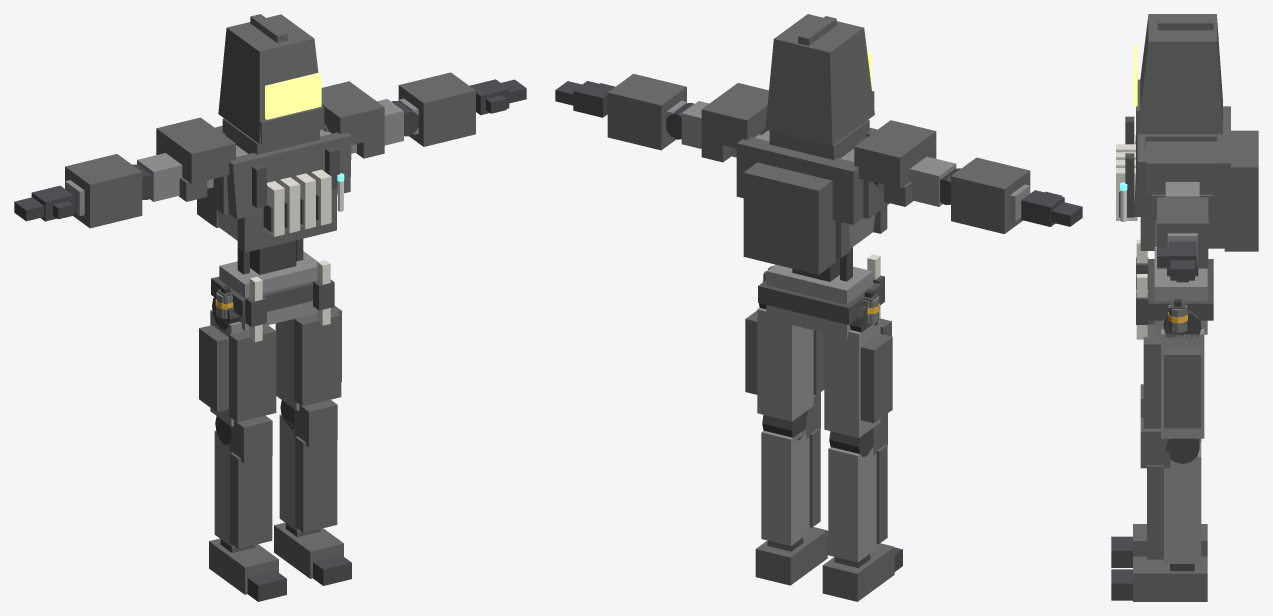
The model's file is char_F1_drop_trooper.glb.
The picture shows the model from 3 angles, left to right: view 1: azimuth 30°, elevation 25°; view 2: azimuth 150°, elevation 25°; view 3: azimuth 270°, elevation 25°; orthographic projection. The views are drawn at different scales.
Parts seen in each view (by area): view 1: Head_mesh, UpperChest_mesh, RightLowerLeg_mesh, LeftLowerLeg_mesh, RightUpperLeg_mesh, LeftUpperLeg_mesh, RightUpperArm_mesh, Hips_mesh, RightLowerArm_mesh, LeftLowerArm_mesh, LeftUpperArm_mesh, Chest_mesh (+11 smaller); view 2: UpperChest_mesh, Head_mesh, LeftLowerLeg_mesh, RightLowerLeg_mesh, RightUpperLeg_mesh, LeftUpperLeg_mesh, Hips_mesh, RightUpperArm_mesh, RightLowerArm_mesh, LeftLowerArm_mesh, LeftUpperArm_mesh, RightFoot_mesh (+5 smaller); view 3: Head_mesh, UpperChest_mesh, LeftLowerLeg_mesh, LeftUpperLeg_mesh, LeftUpperArm_mesh, Hips_mesh, LeftFoot_mesh, LeftLowerArm_mesh, LeftHand_mesh, Chest_mesh, LeftToes_mesh, RightToes_mesh (+5 smaller).
Boxes of the visible parts, x1=… form: Head_mesh: x1=218, y1=14, x2=324, y2=144; UpperChest_mesh: x1=197, y1=118, x2=351, y2=231; RightLowerLeg_mesh: x1=214, y1=415, x2=272, y2=548; LeftLowerLeg_mesh: x1=279, y1=400, x2=337, y2=532; RightUpperLeg_mesh: x1=199, y1=295, x2=276, y2=426; LeftUpperLeg_mesh: x1=275, y1=306, x2=341, y2=410; RightUpperArm_mesh: x1=137, y1=117, x2=235, y2=201; Hips_mesh: x1=211, y1=251, x2=334, y2=330; RightLowerArm_mesh: x1=65, y1=154, x2=152, y2=228; LeftLowerArm_mesh: x1=391, y1=72, x2=475, y2=146; LeftUpperArm_mesh: x1=321, y1=81, x2=403, y2=158; Chest_mesh: x1=208, y1=195, x2=336, y2=252; UpperChest_mesh: x1=736, y1=120, x2=889, y2=274; Head_mesh: x1=765, y1=14, x2=874, y2=145; LeftLowerLeg_mesh: x1=761, y1=392, x2=820, y2=545; RightLowerLeg_mesh: x1=828, y1=413, x2=887, y2=562; RightUpperLeg_mesh: x1=824, y1=305, x2=892, y2=437; LeftUpperLeg_mesh: x1=745, y1=303, x2=824, y2=421; Hips_mesh: x1=758, y1=264, x2=884, y2=338; RightUpperArm_mesh: x1=854, y1=120, x2=956, y2=206; RightLowerArm_mesh: x1=940, y1=157, x2=1030, y2=233; LeftLowerArm_mesh: x1=607, y1=73, x2=693, y2=150; LeftUpperArm_mesh: x1=681, y1=83, x2=768, y2=162; RightFoot_mesh: x1=822, y1=543, x2=894, y2=601; Head_mesh: x1=1133, y1=14, x2=1222, y2=134; UpperChest_mesh: x1=1119, y1=106, x2=1258, y2=251; LeftLowerLeg_mesh: x1=1140, y1=417, x2=1201, y2=563; LeftUpperLeg_mesh: x1=1143, y1=310, x2=1204, y2=438; LeftUpperArm_mesh: x1=1146, y1=141, x2=1219, y2=215; Hips_mesh: x1=1136, y1=247, x2=1213, y2=334; LeftFoot_mesh: x1=1133, y1=556, x2=1207, y2=601; LeftLowerArm_mesh: x1=1157, y1=197, x2=1208, y2=268; LeftHand_mesh: x1=1157, y1=241, x2=1196, y2=280; Chest_mesh: x1=1140, y1=217, x2=1224, y2=250; LeftToes_mesh: x1=1111, y1=569, x2=1132, y2=600; RightToes_mesh: x1=1111, y1=536, x2=1132, y2=567.
Size of the model in its own units: 1.92 by 1.97 by 0.475.
